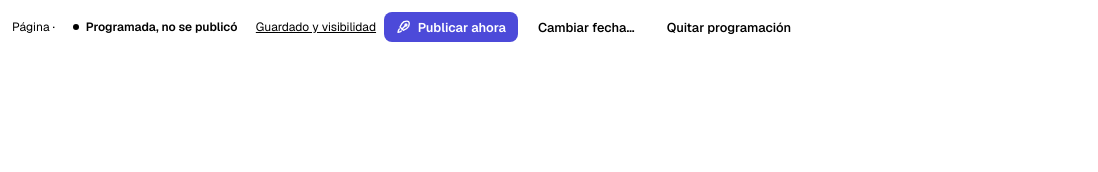
it: VisualPublishControl.svelte — «Programar…» › si el servidor ya quitó la fecha, el conflicto enfoca «Programar…» al desaparecer el botón
What coordinates should you click on to do the following:
click the button "Quitar programación"
I would click on:
 (729, 27)
Its box is x1=655 y1=12 x2=803 y2=42.
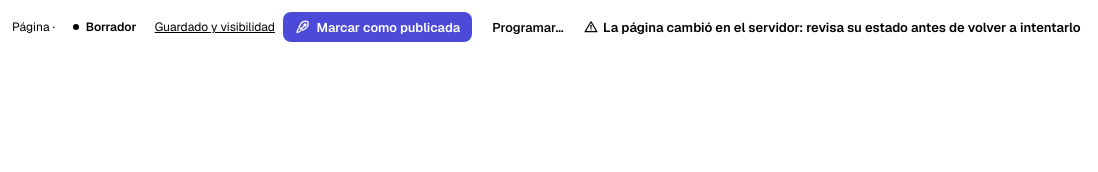
Expected: the button "Quitar programación" is gone
Expected: the button "Programar…" is shown, x1=480 y1=12 x2=576 y2=42
